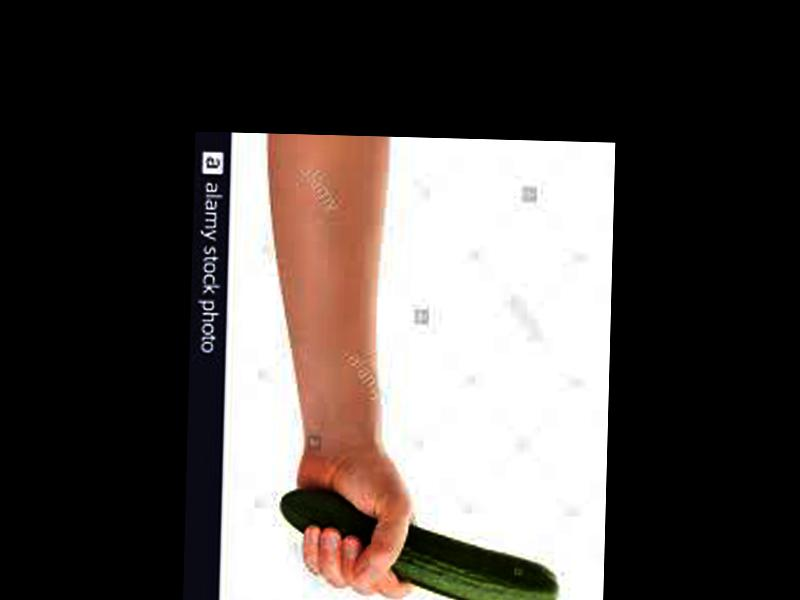Cucumber: (278, 491, 559, 600)
